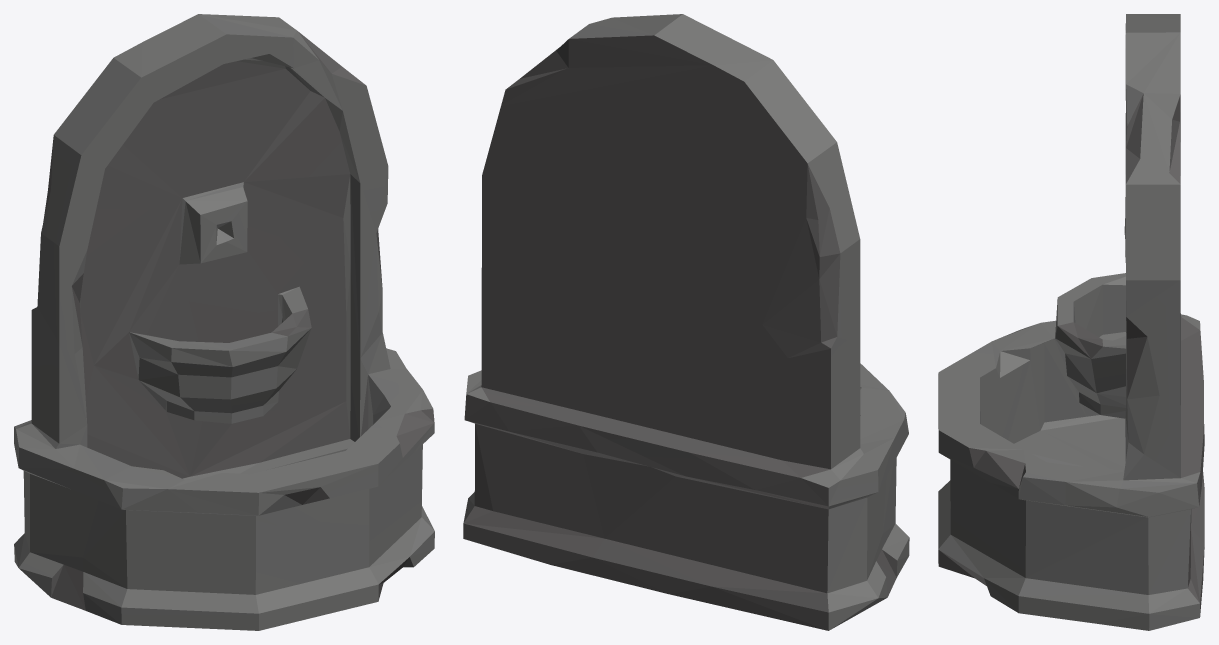
File: SM_Env_Stone_Fountain_01.glb
3 renders of one model, left to right at view 1: azimuth 30°, elevation 25°; view 2: azimuth 150°, elevation 25°; view 3: azimuth 270°, elevation 25°, orthographic. The views are drawn at different scales.
Visible parts, largest first — view 1: SM_Env_Stone_Fountain_01; view 2: SM_Env_Stone_Fountain_01; view 3: SM_Env_Stone_Fountain_01.
Boxes of the visible parts, x1,y1,x2,y2 form: SM_Env_Stone_Fountain_01: (14, 14, 434, 630); SM_Env_Stone_Fountain_01: (463, 14, 909, 630); SM_Env_Stone_Fountain_01: (938, 14, 1204, 630).
Size of the model in its own units: 0.0104 by 0.0132 by 0.00628.
Materials: 1 (1 with a texture image).
